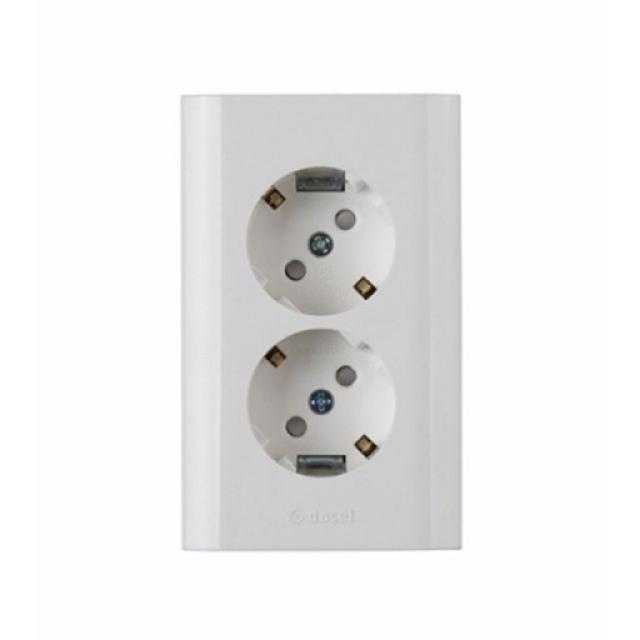typeb: (150, 54, 514, 574)
